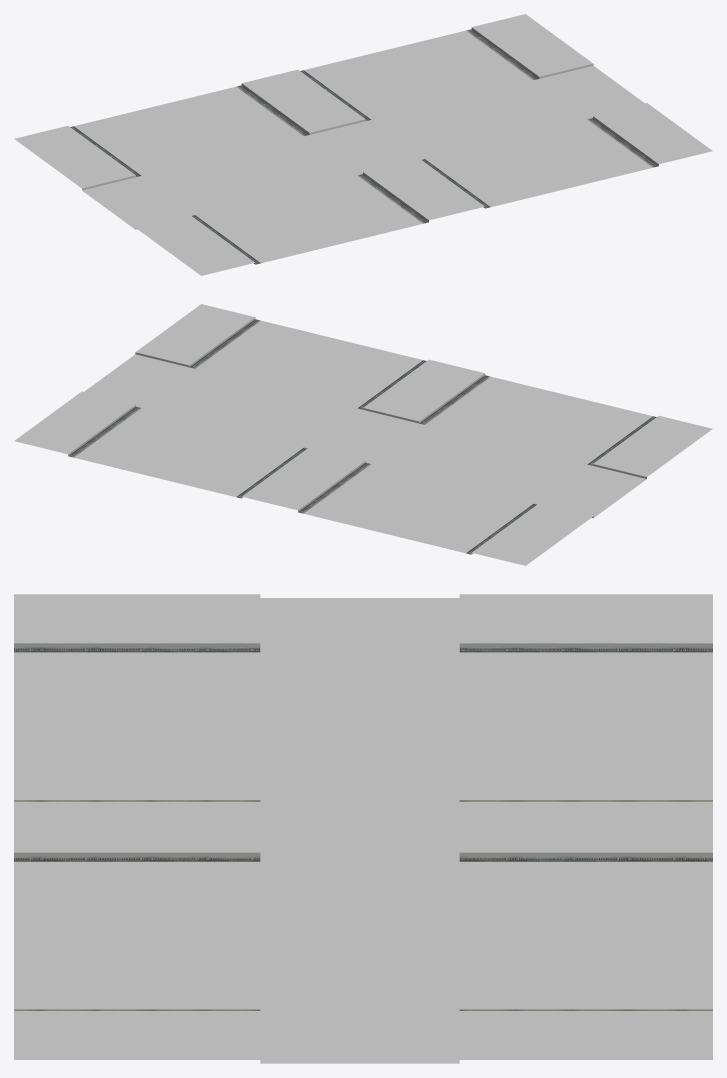
The model's file is road_8_lanes_crossing.fbx.
3 views of the same model, one above another, from view 1: azimuth 30°, elevation 25°; view 2: azimuth 150°, elevation 25°; view 3: azimuth 270°, elevation 25° (orthographic). The views are drawn at different scales.
Visible parts, largest first — view 1: Mesh; view 2: Mesh; view 3: Mesh.
Part boxes in pixels (x1=…): Mesh: x1=14, y1=14, x2=712, y2=275; Mesh: x1=14, y1=304, x2=712, y2=565; Mesh: x1=14, y1=594, x2=712, y2=1063.
Size of the model in its own units: 3785 by 14 by 2400.
